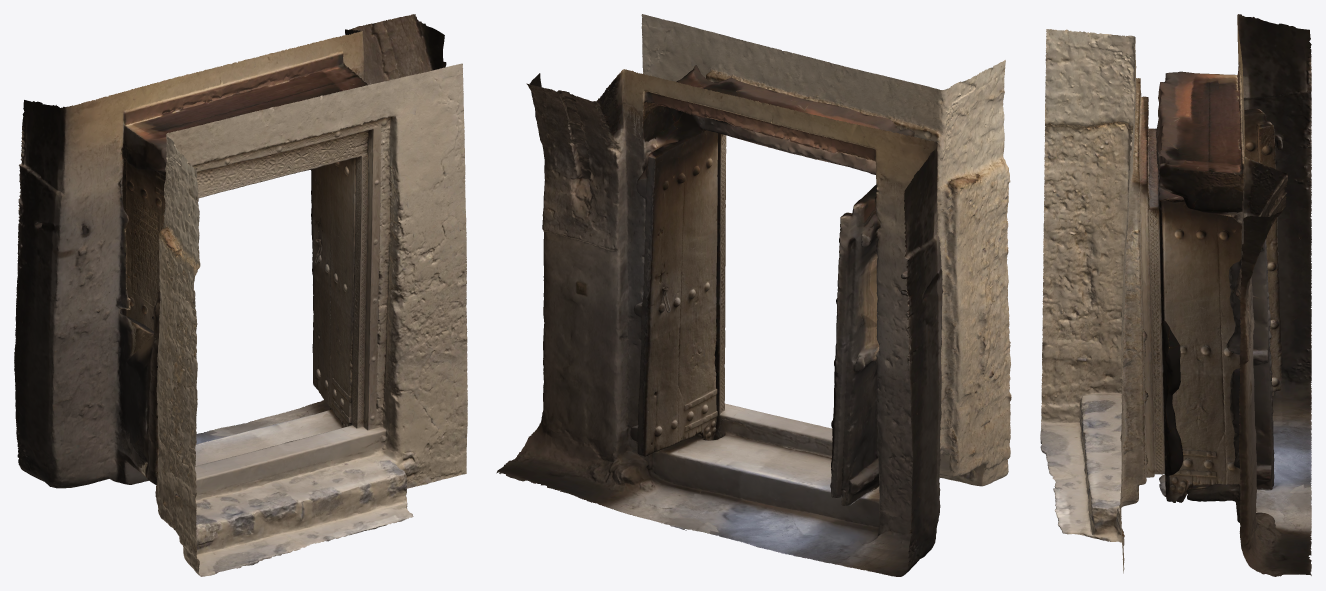
The picture shows the model from 3 angles, left to right: view 1: azimuth 30°, elevation 25°; view 2: azimuth 150°, elevation 25°; view 3: azimuth 270°, elevation 25°; orthographic projection. The views are drawn at different scales.
Parts seen in each view (by area): view 1: OMN_001_M3_Door; view 2: OMN_001_M3_Door; view 3: OMN_001_M3_Door.
Boxes of the visible parts, box(x1,y1,x2,y2) form: OMN_001_M3_Door: box(14, 14, 467, 576); OMN_001_M3_Door: box(496, 14, 1011, 576); OMN_001_M3_Door: box(1040, 14, 1311, 576).
Bounding box in the file's own units: 3.69 × 3.57 × 2.21.
1 material, 1 textured.
